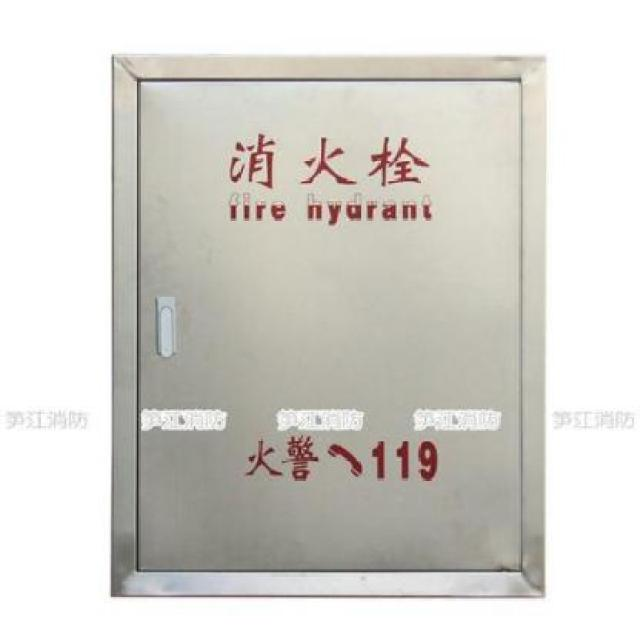firehydrant: (103, 48, 553, 607)
